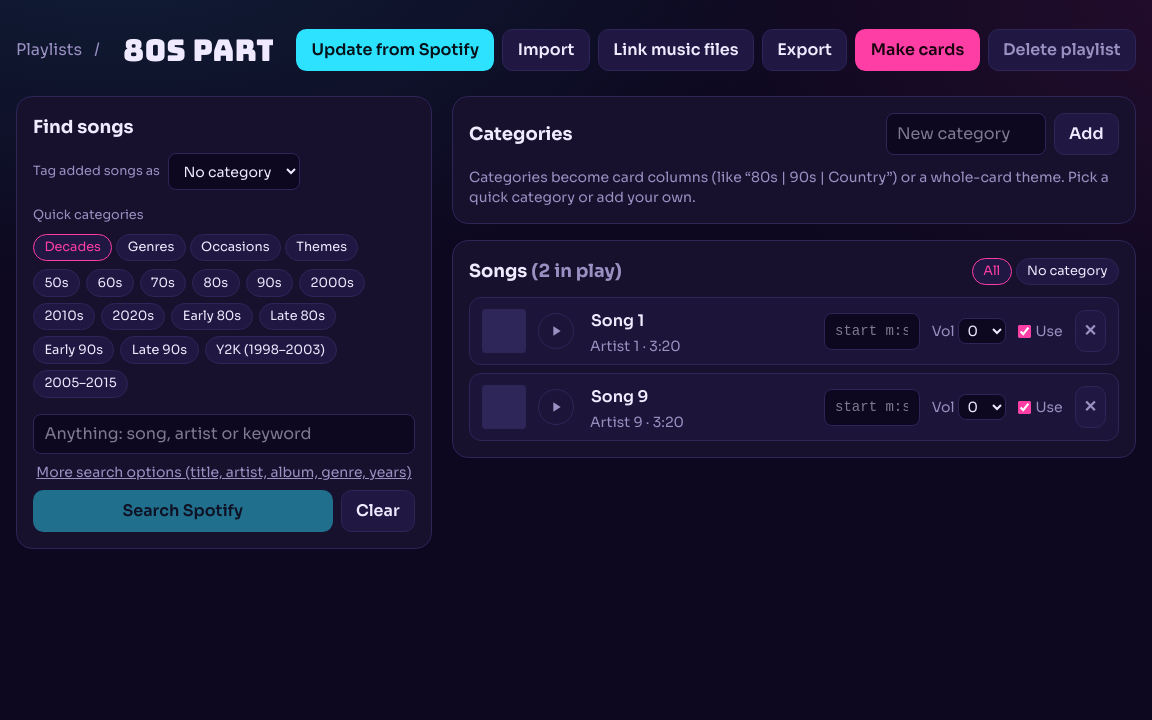
Test: Update from Spotify pulls changes and reports them
The width and height of the screenshot is (1152, 720).
Click the button "Update from Spotify" at (395, 50), box [296,29,494,71]
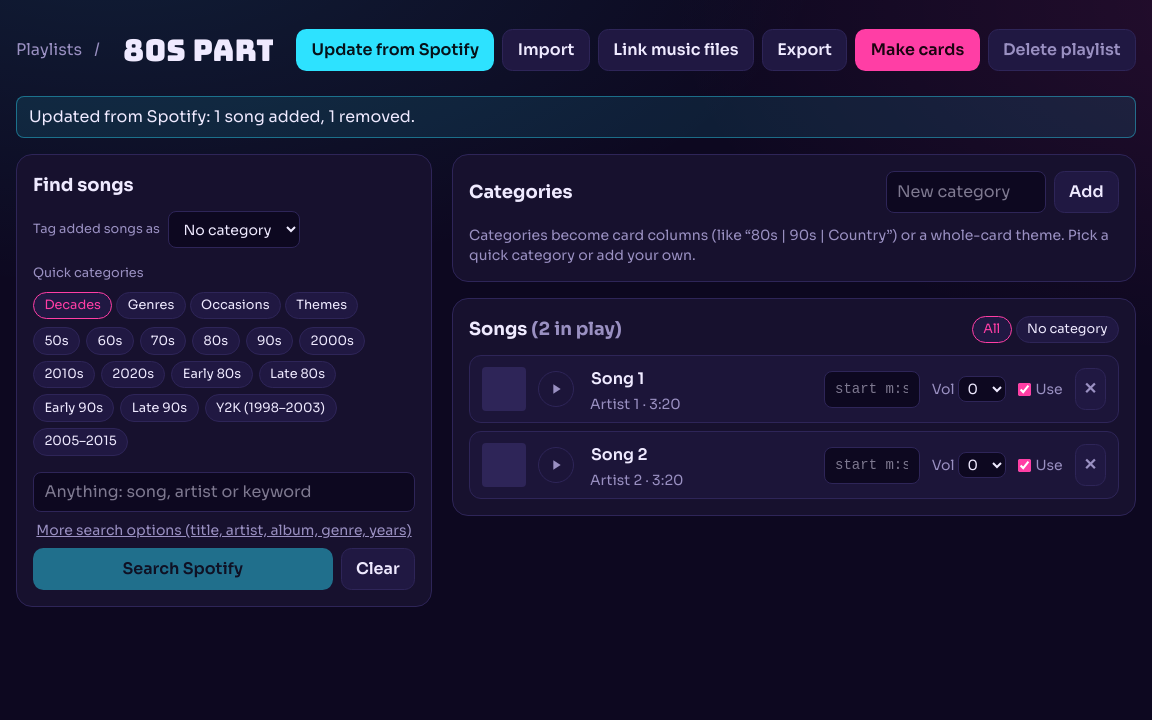
Check: the text "Updated from Spotify: 1 song added, 1 removed." is shown, box [16,96,1136,138]
